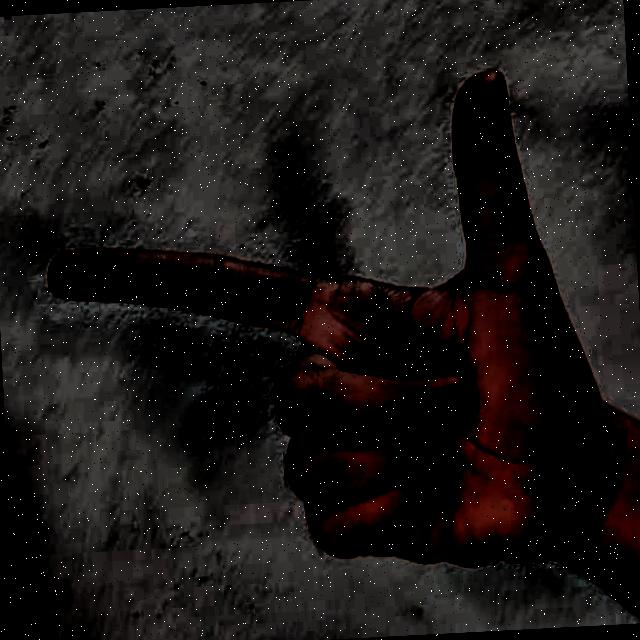Tha: (16, 38, 612, 612)
